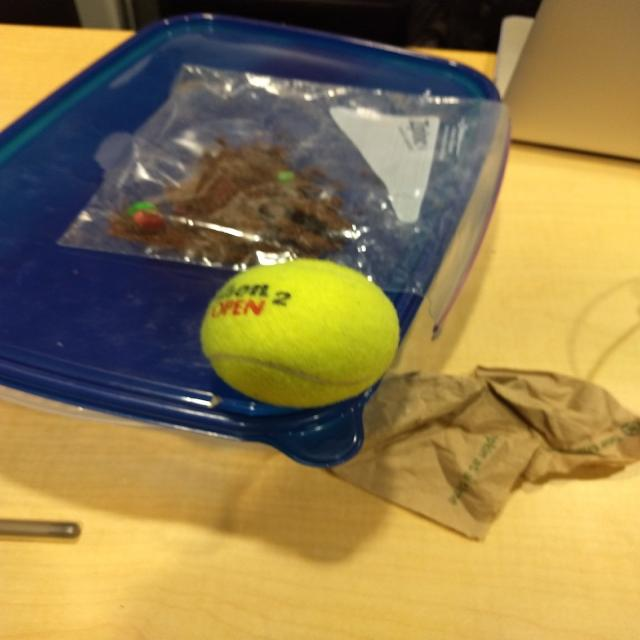tennis-ball: (200, 258, 402, 409)
